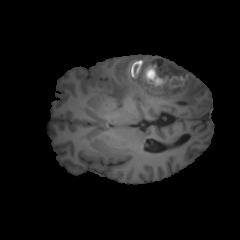glioma: (107, 56, 204, 110)
